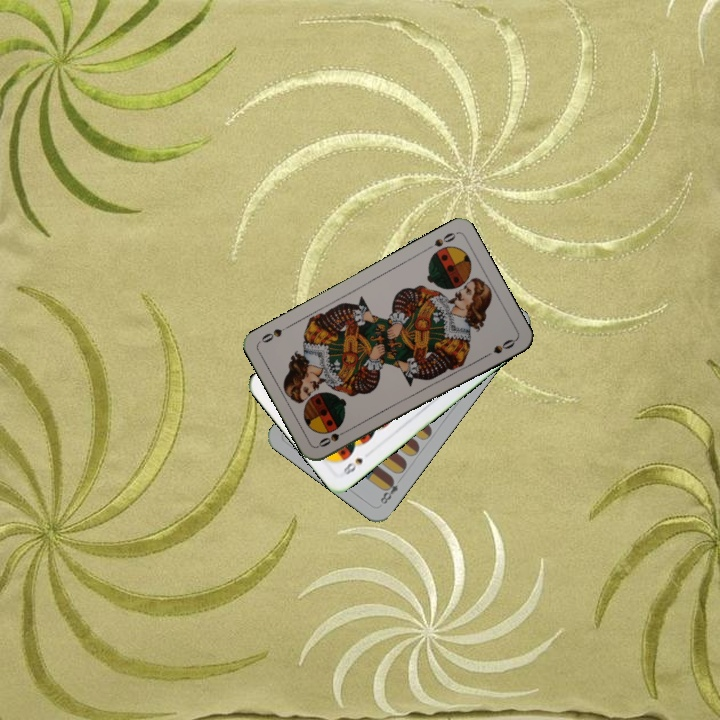E8: (376, 474, 401, 507)
S8: (339, 454, 366, 480)
SO: (421, 228, 458, 254), (314, 425, 352, 450)
